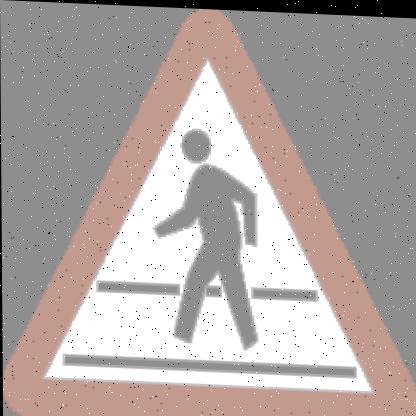Pedestrian Crossing: (11, 17, 407, 402)
